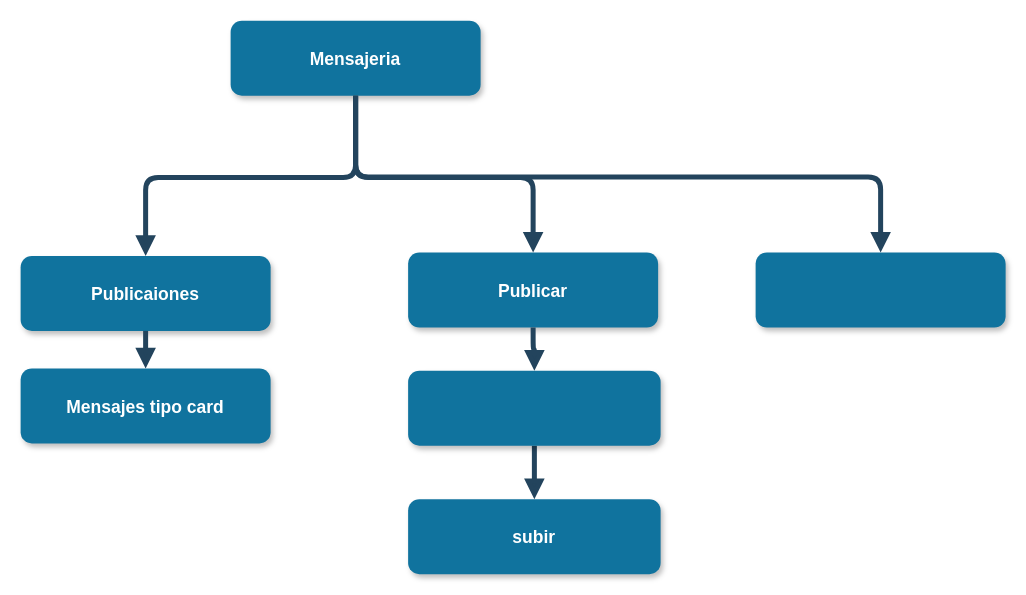
The diagram is 1026 pixels wide and 595 high, and some of its shapes have lost their labels. Each missing label, with the centre of its shape:
"Cuerpo y datos del mensaje" goes at point (535, 409).
"Login/ Registro" goes at point (881, 291).
